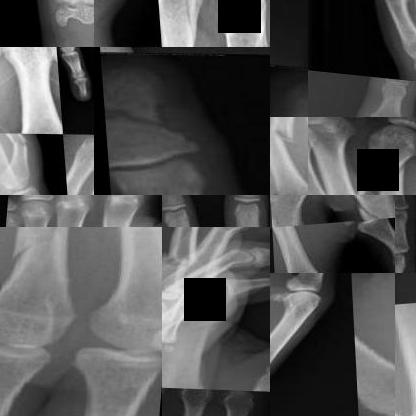fracture: (101, 87, 175, 153), (352, 146, 415, 194), (162, 0, 199, 47), (162, 240, 204, 280), (270, 117, 300, 151), (360, 197, 394, 225), (1, 133, 30, 158), (377, 0, 415, 11), (9, 215, 27, 226)
